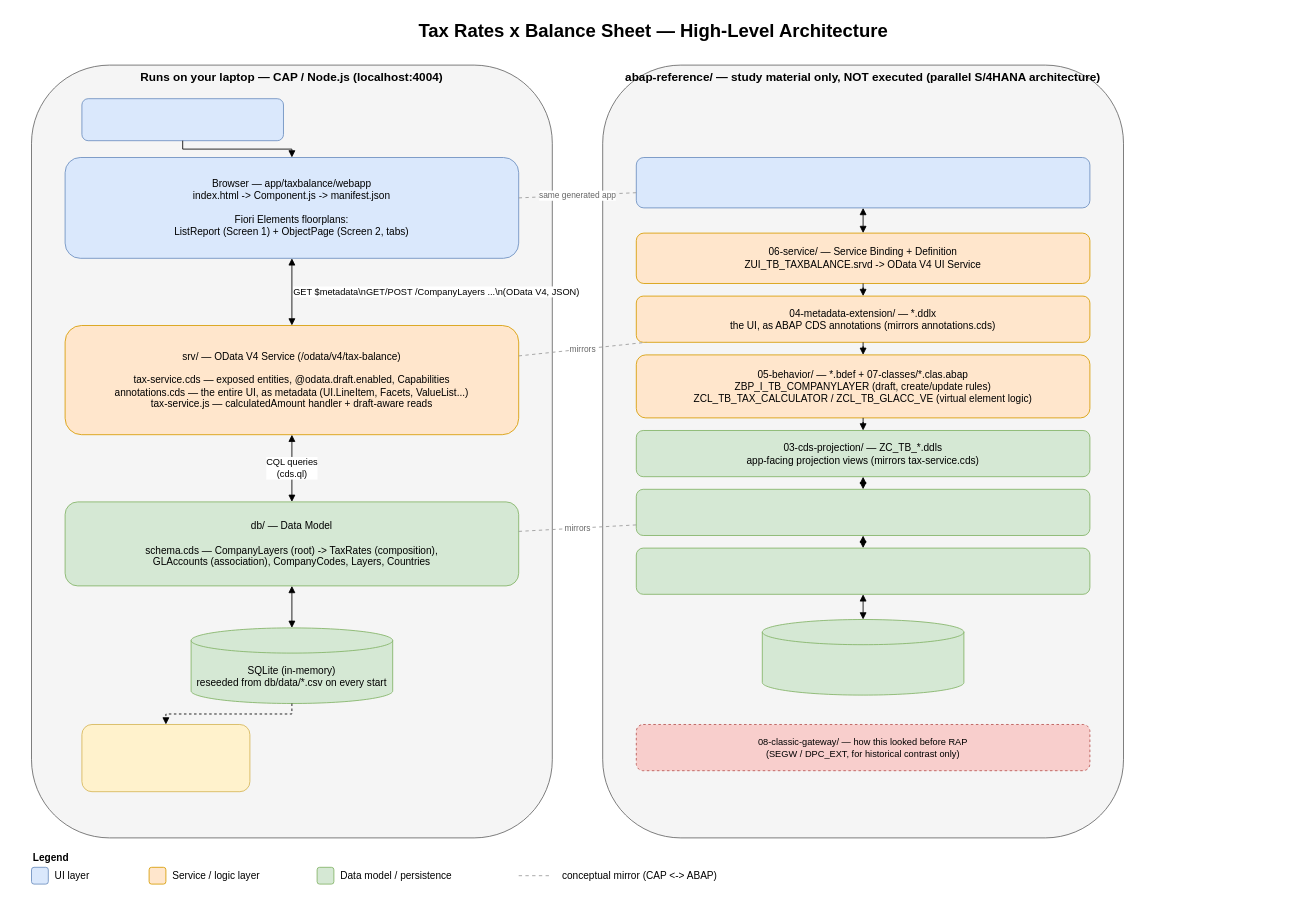
Image size: 1305x899. Some labels were removed from this diagram. The centre of each missing label's shape, as x and y in pixels:
"01-tables/ — DDIC tables (.tabl) ZTB_CMPLAYER, ZTB_GLACC, ZTB_LAYER, ZTB_TAXRATE" belongs at point (862, 570).
"02-cds-interface/ — ZI_TB_*.ddls reusable interface views (mirrors schema.cds)" belongs at point (862, 512).
"Draft tables (per-user shadow copies, IsActiveEntity=false)" belongs at point (165, 758).
"HANA database tables (S/4HANA system)" belongs at point (862, 657).
"Same Fiori Elements app (only manifest.json's OData URL changes)" belongs at point (862, 182).
"SAPUI5 Runtime 1.148.5 (https://ui5.sap.com)" belongs at point (182, 119).
